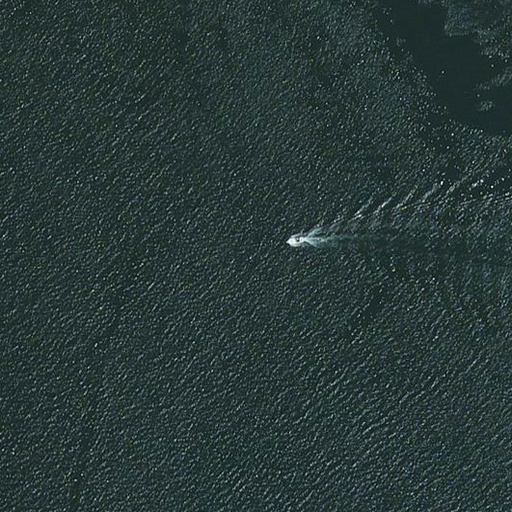ship: (285, 232, 306, 250)
